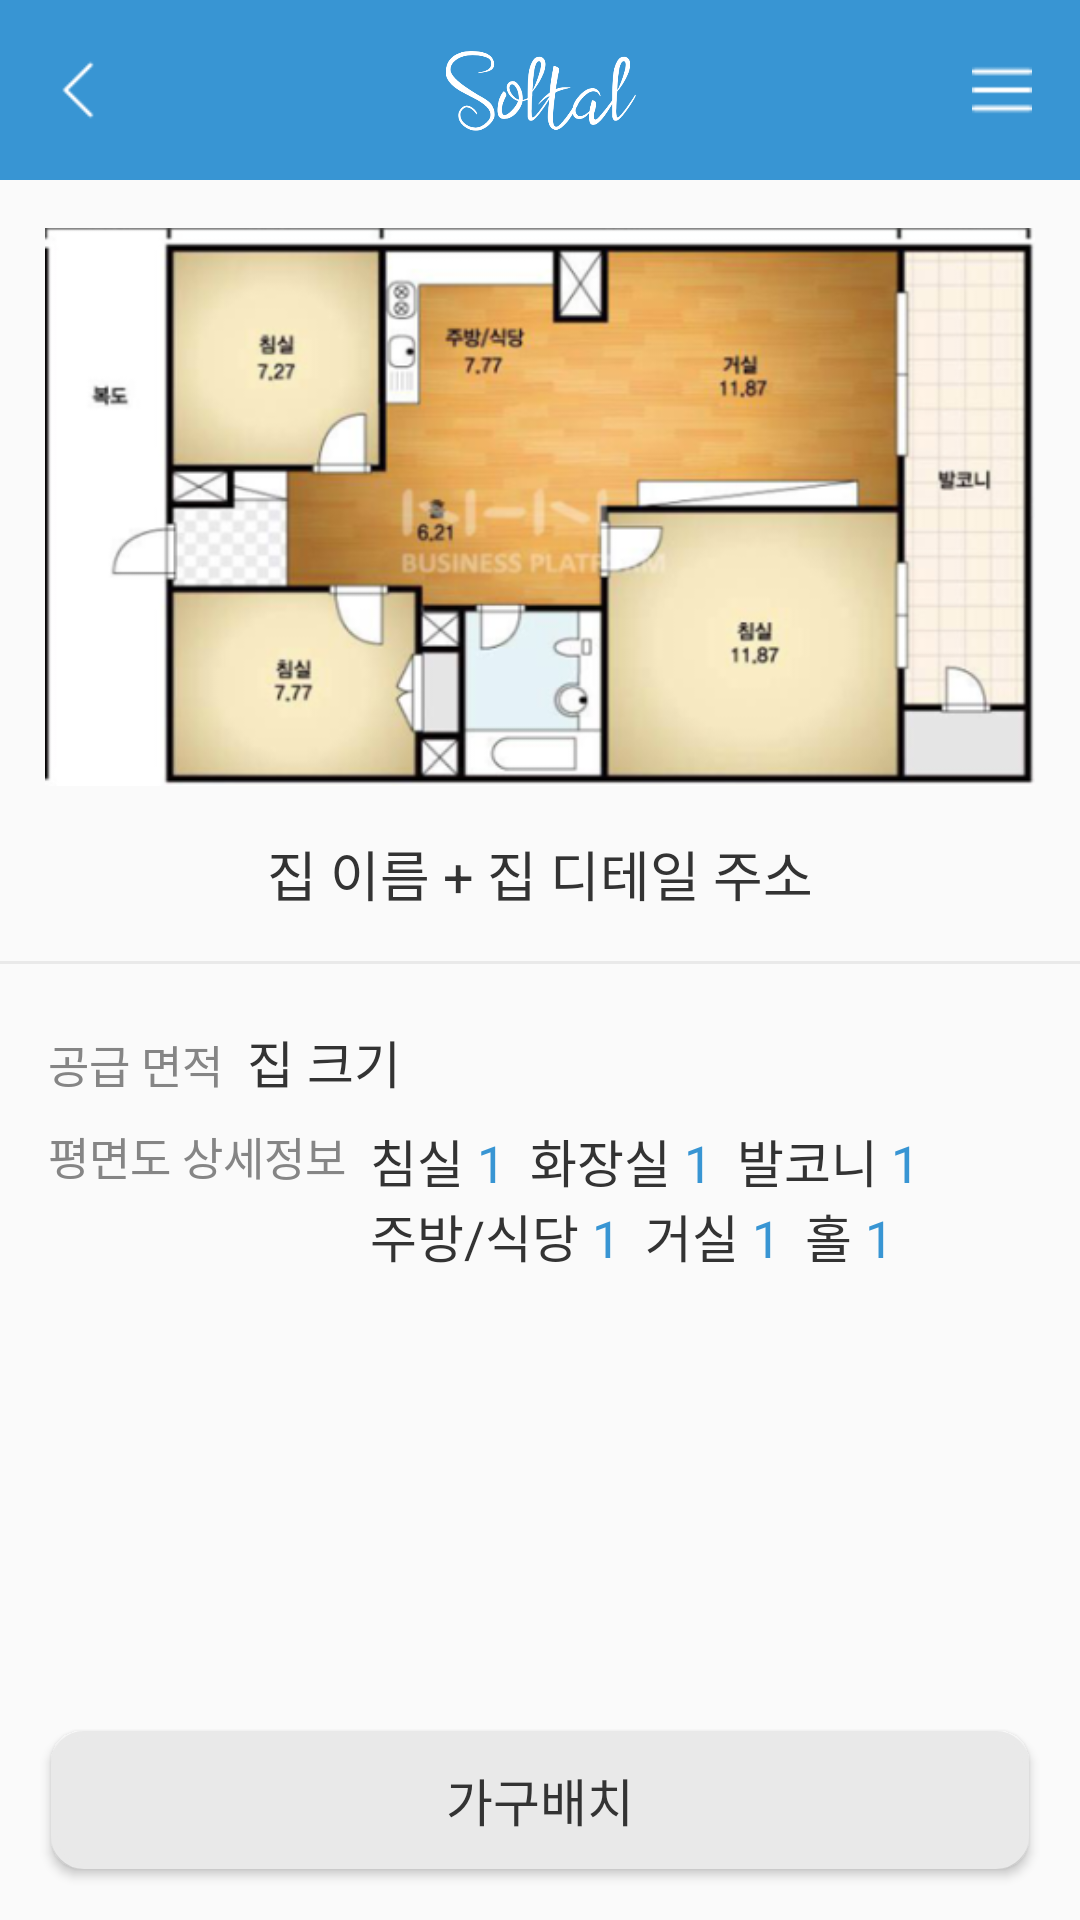

Icon click points for this 1080px x 1920px phone screenshot, format point (x, y):
top back: point (78, 90)
top menu: point (1002, 90)
